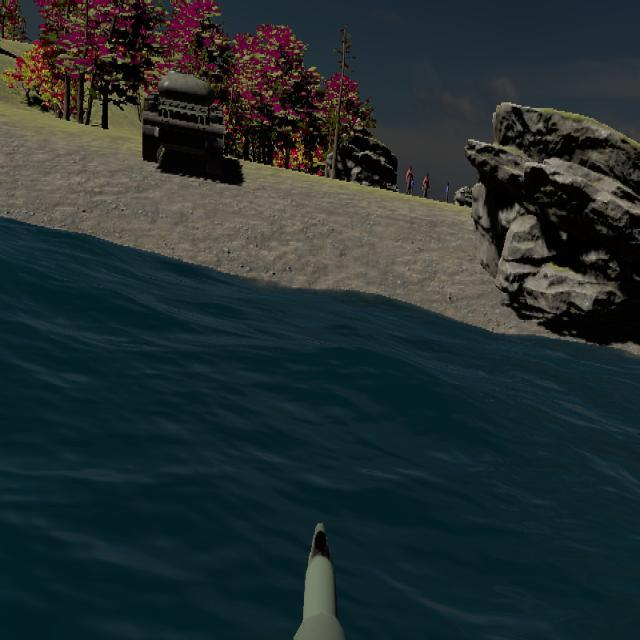Tank: (142, 68, 225, 173)
